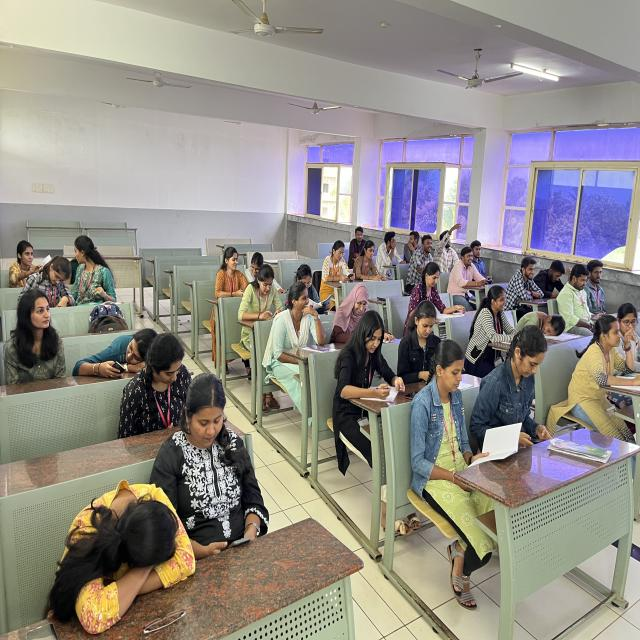Hand Rising: (432, 211, 462, 278)
Reading: (421, 327, 518, 504), (404, 256, 450, 334), (290, 262, 332, 316)
Sleeping: (26, 429, 185, 640), (75, 300, 157, 366), (517, 296, 583, 366)
Using Phone: (169, 362, 272, 583), (473, 297, 567, 460), (560, 248, 610, 340), (404, 299, 447, 399), (241, 267, 283, 332), (457, 238, 501, 293), (317, 236, 356, 290), (222, 242, 248, 304)
Writing: (336, 310, 415, 448), (356, 239, 392, 292)
